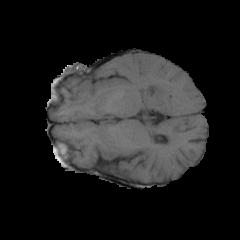glioma: (121, 73, 191, 107)
